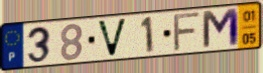1: (139, 15, 155, 56)
3: (25, 24, 56, 65)
8: (59, 21, 84, 62)
F: (172, 10, 204, 54)
M: (200, 7, 241, 52)
V: (95, 17, 129, 59)
